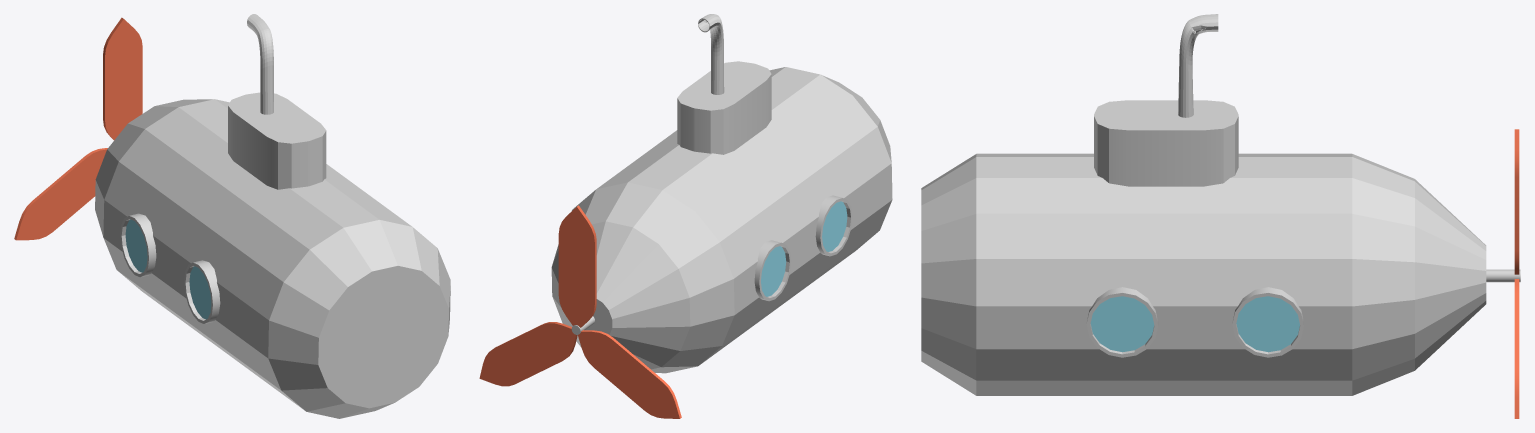
Rendered from Submarine.glb.
3 renders of one model, left to right at view 1: azimuth 30°, elevation 25°; view 2: azimuth 150°, elevation 25°; view 3: azimuth 270°, elevation 25°, orthographic. The views are drawn at different scales.
Parts seen in each view (by area): view 1: Cylinder001, Box20182, Box20179, Box20180, Cylinder004, Cylinder003, Cylinder005; view 2: Cylinder001, Box20182, Box20180, Box20179, Box20181, Cylinder004, Cylinder003, Cylinder005; view 3: Cylinder001, Box20182, Cylinder006, Cylinder007, Cylinder005, Box20179, Box20181.
Part boxes in pixels (x1,y1,x2,y2): Cylinder001: [95, 99, 450, 418]; Box20182: [228, 92, 326, 189]; Box20179: [103, 17, 142, 140]; Box20180: [14, 148, 107, 240]; Cylinder004: [184, 260, 220, 323]; Cylinder003: [120, 213, 156, 277]; Cylinder005: [247, 14, 273, 114]; Cylinder001: [551, 67, 892, 373]; Box20182: [677, 61, 771, 154]; Box20180: [578, 330, 681, 418]; Box20179: [558, 205, 596, 327]; Box20181: [479, 322, 577, 386]; Cylinder004: [815, 195, 852, 256]; Cylinder003: [754, 240, 791, 301]; Cylinder005: [698, 14, 724, 94]; Cylinder001: [921, 153, 1486, 395]; Box20182: [1094, 100, 1238, 186]; Cylinder006: [1086, 287, 1158, 357]; Cylinder007: [1232, 287, 1303, 357]; Cylinder005: [1178, 14, 1218, 117]; Box20179: [1514, 129, 1519, 274]; Box20181: [1514, 279, 1519, 418].
Size of the model in its own units: 786 by 1160 by 1709.
